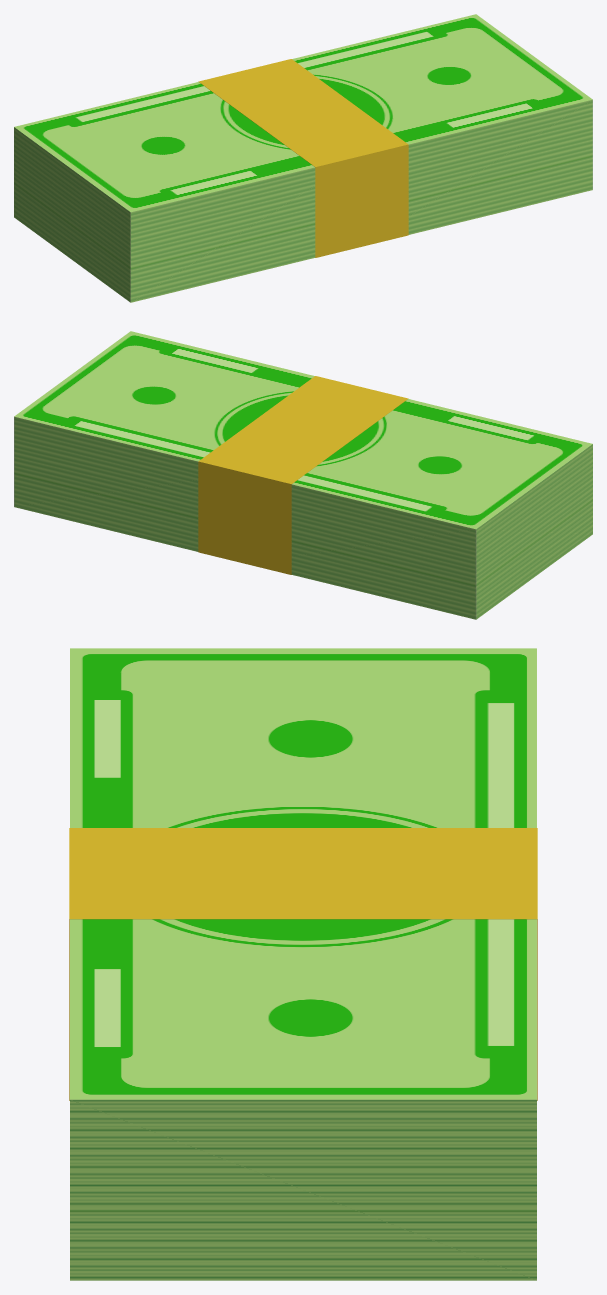
Rendered from Money_bill_pieces.fbx.
3 views of the same model, one above another, from view 1: azimuth 30°, elevation 25°; view 2: azimuth 150°, elevation 25°; view 3: azimuth 270°, elevation 25° (orthographic). The views are drawn at different scales.
Visible parts, largest first — view 1: Money_piece_02, Money_piece_01; view 2: Money_piece_02, Money_piece_01; view 3: Money_piece_01, Money_piece_02.
Part boxes in pixels (x1=…): Money_piece_02: x1=14, y1=70, x2=361, y2=302; Money_piece_01: x1=245, y1=14, x2=592, y2=246; Money_piece_02: x1=245, y1=387, x2=592, y2=619; Money_piece_01: x1=14, y1=331, x2=361, y2=563; Money_piece_01: x1=69, y1=873, x2=537, y2=1280; Money_piece_02: x1=69, y1=648, x2=537, y2=873.
Size of the model in its own units: 800 by 150 by 351.
